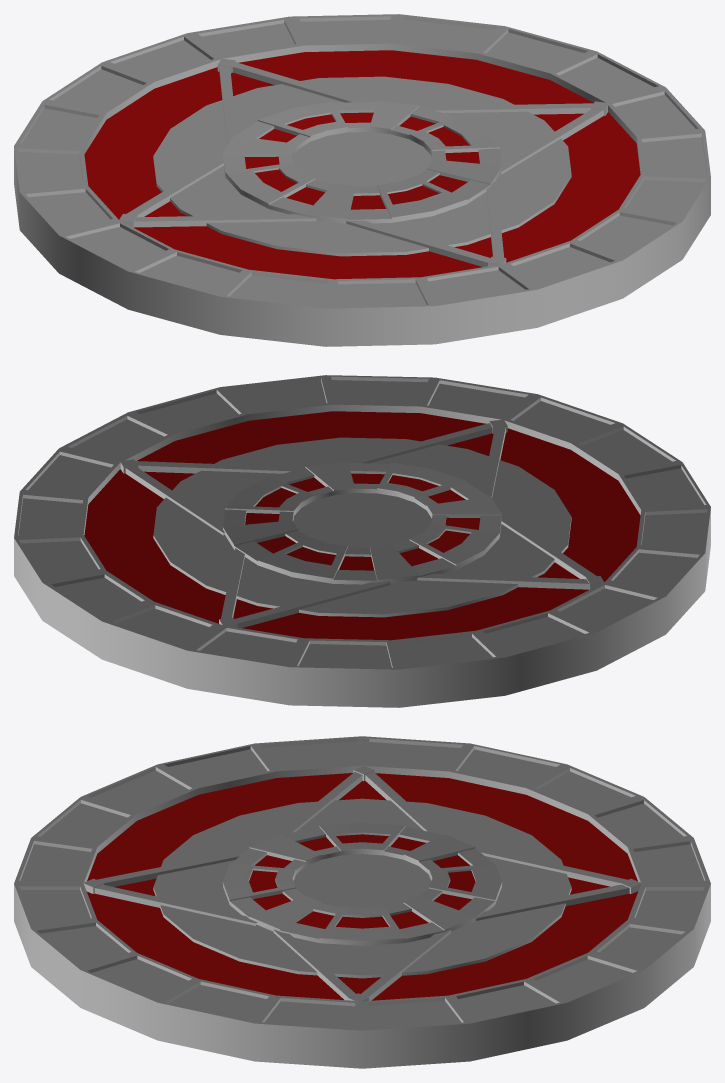
Rendered from Mayan Floor Object.fbx.
The picture shows the model from 3 angles, top to bottom: view 1: azimuth 30°, elevation 25°; view 2: azimuth 150°, elevation 25°; view 3: azimuth 270°, elevation 25°; orthographic projection.
Visible parts, largest first — view 1: maya:pCube5; view 2: maya:pCube5; view 3: maya:pCube5.
Boxes of the visible parts, bbox=[...] form: maya:pCube5: bbox=[14, 14, 710, 346]; maya:pCube5: bbox=[14, 375, 710, 707]; maya:pCube5: bbox=[14, 736, 710, 1068].
Size of the model in its own units: 16.71 by 1.14 by 16.71.
